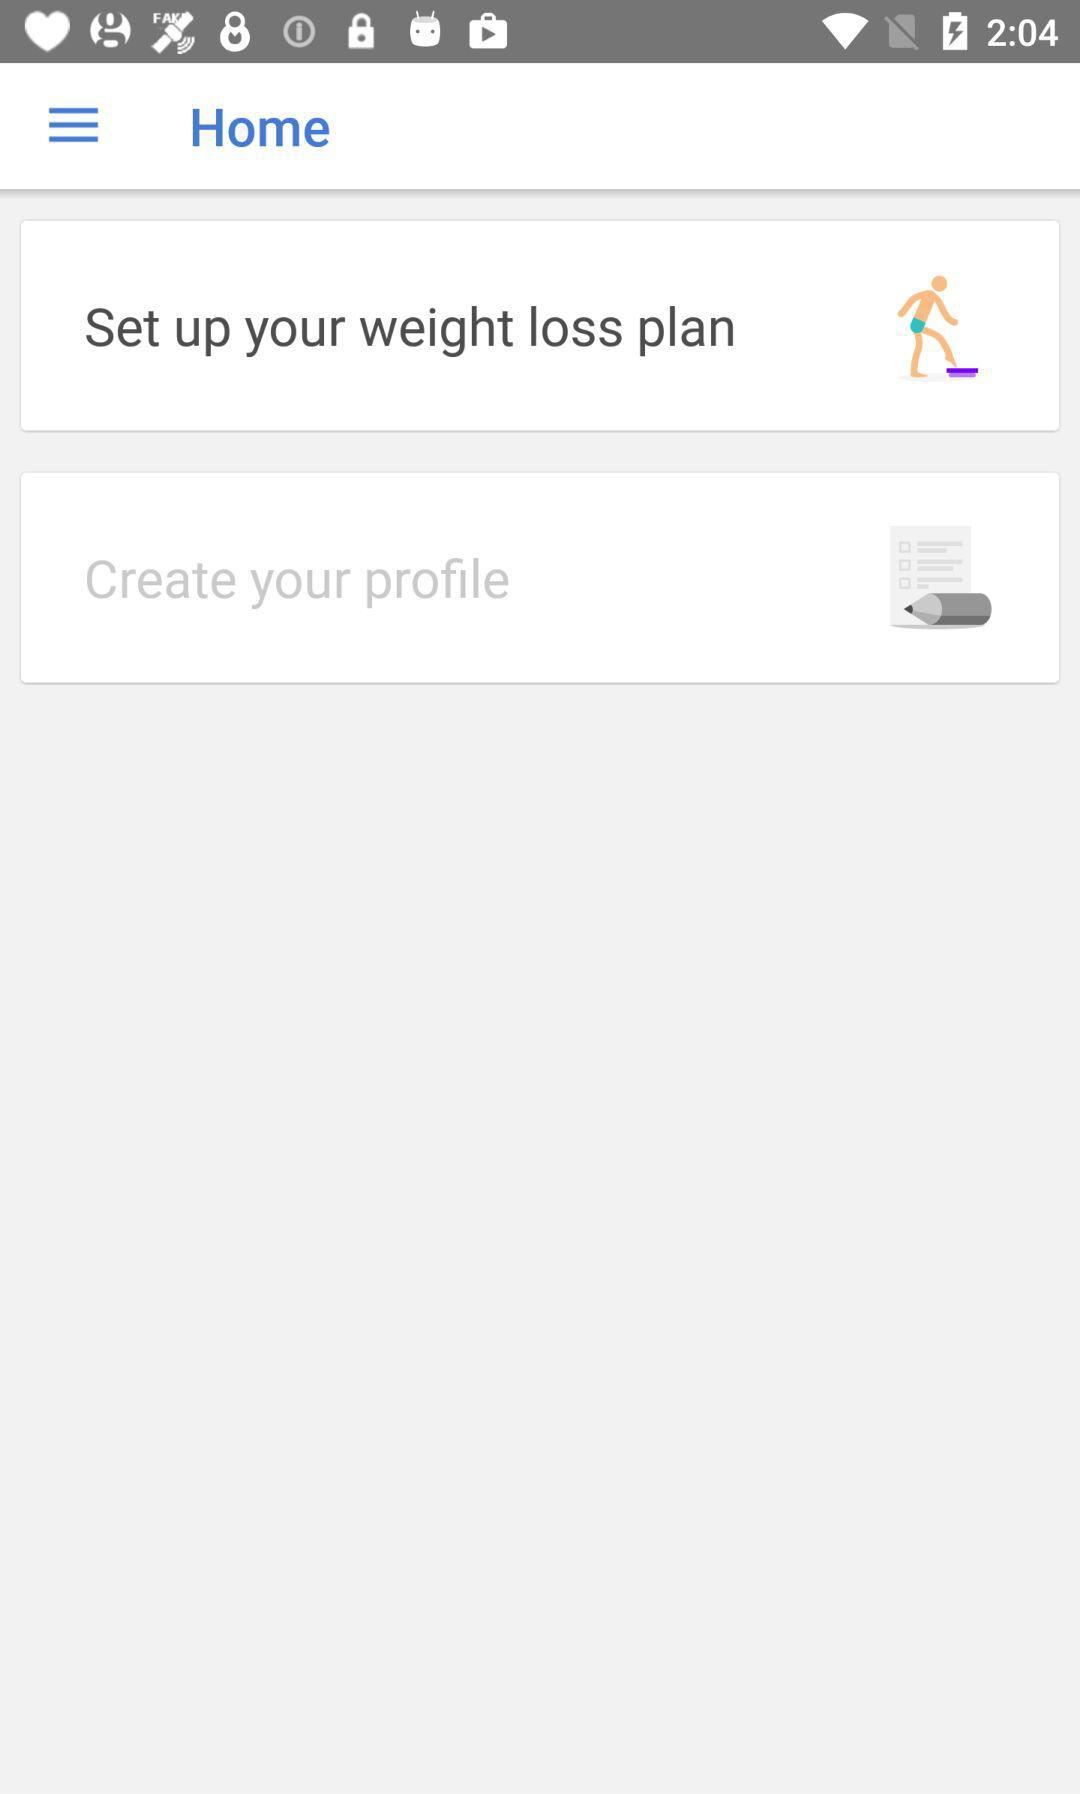Card: (20, 220, 1061, 434), (20, 472, 1061, 684)
Icon: (47, 108, 100, 144)
Image: (888, 524, 993, 630), (896, 276, 980, 384)
Text: (86, 306, 734, 359), (87, 557, 510, 611), (193, 109, 331, 149)
Toolbar: (1, 65, 1080, 190)
UpperTaskBar: (1, 1, 1080, 64)
